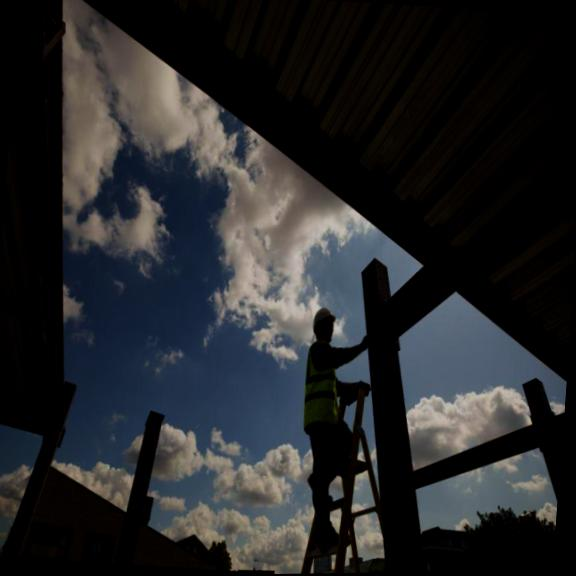safety_vest: (299, 342, 351, 438)
